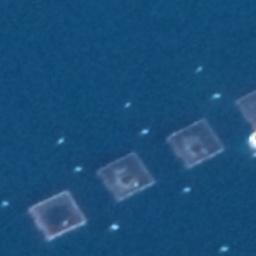square_cover: (94, 147, 159, 208), (25, 186, 91, 241), (163, 114, 226, 170), (230, 85, 256, 138)
